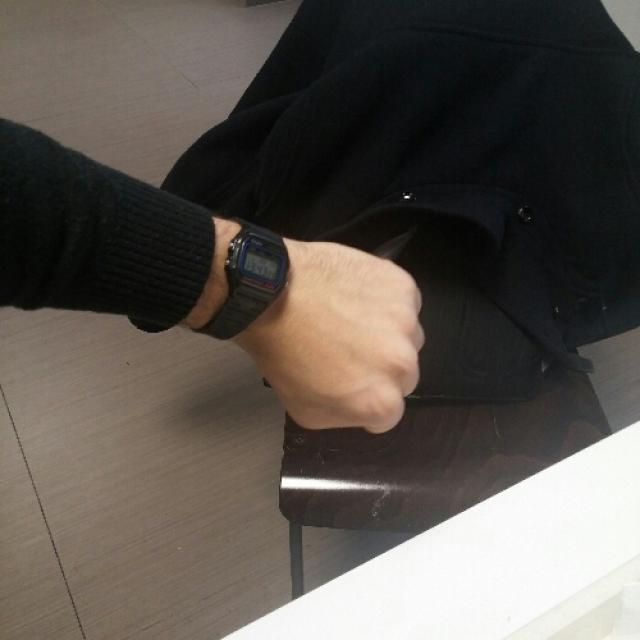rock: (284, 238, 419, 436)
